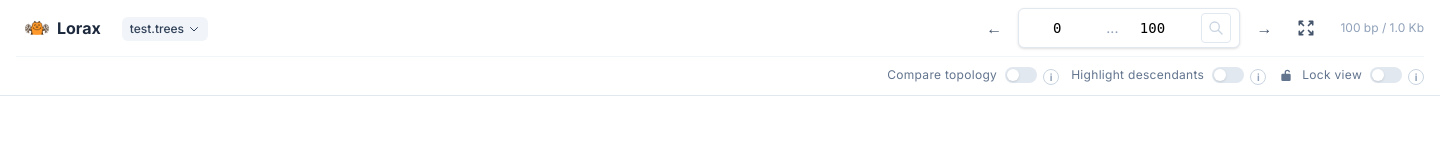
Test: PositionSlider lock view toggle › renders lock switch defaulted off and toggles on click
The image size is (1440, 160).
Click the switch labelled "Lock view": (1340, 75) [1278,67,1402,83]
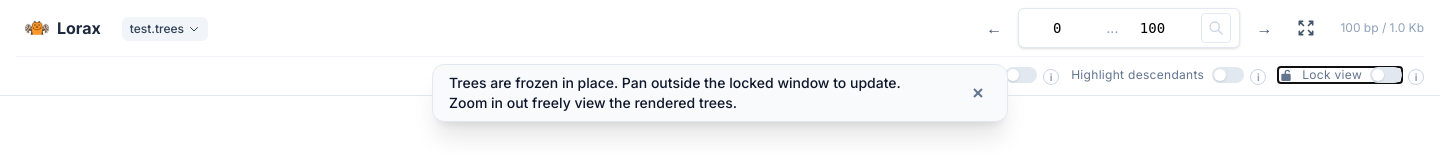
Check: the text "Trees are frozen in place" is shown, box [449,74,901,111]
